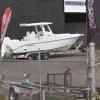Boat: (10, 19, 88, 59)
